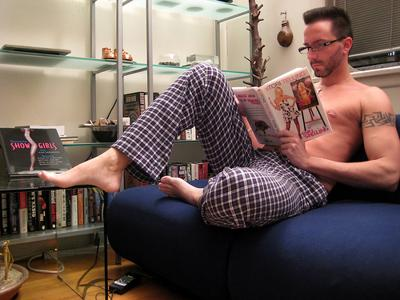person: (39, 8, 400, 230)
